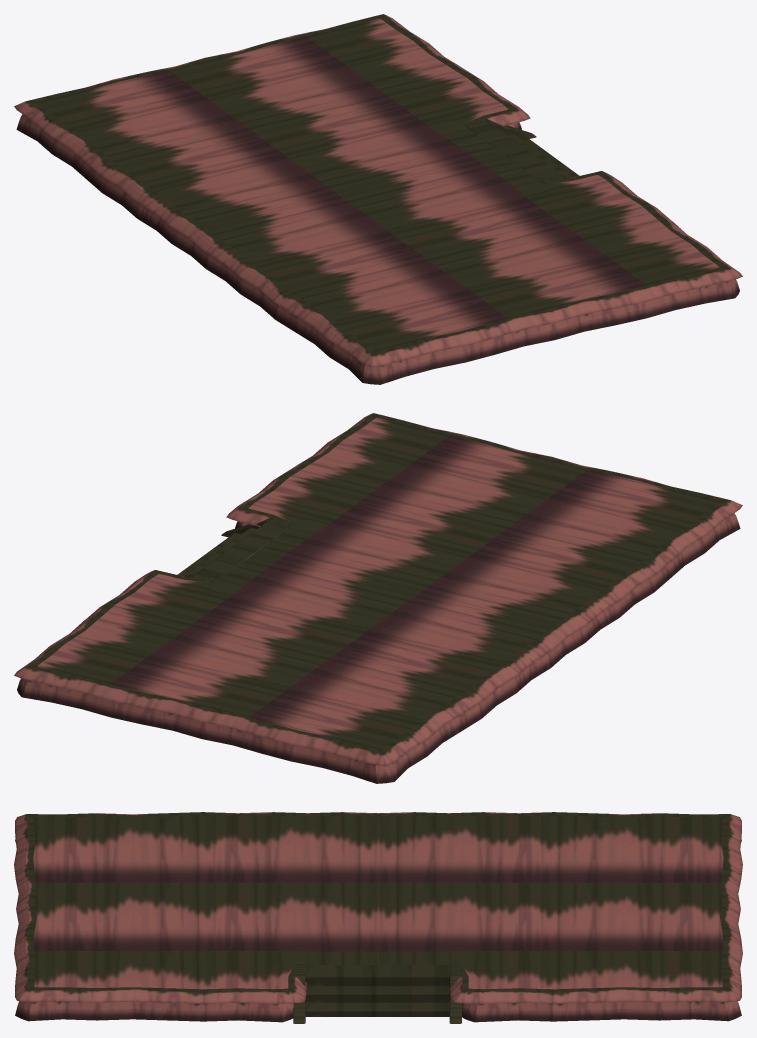
Rendered from 0162_T_ZhenYin_HuaTan03.glb.
The picture shows the model from 3 angles, top to bottom: view 1: azimuth 30°, elevation 25°; view 2: azimuth 150°, elevation 25°; view 3: azimuth 270°, elevation 25°; orthographic projection.
Bounding box in the file's own units: 1.36 × 0.0871 × 2.2.
1 material, 1 textured.
